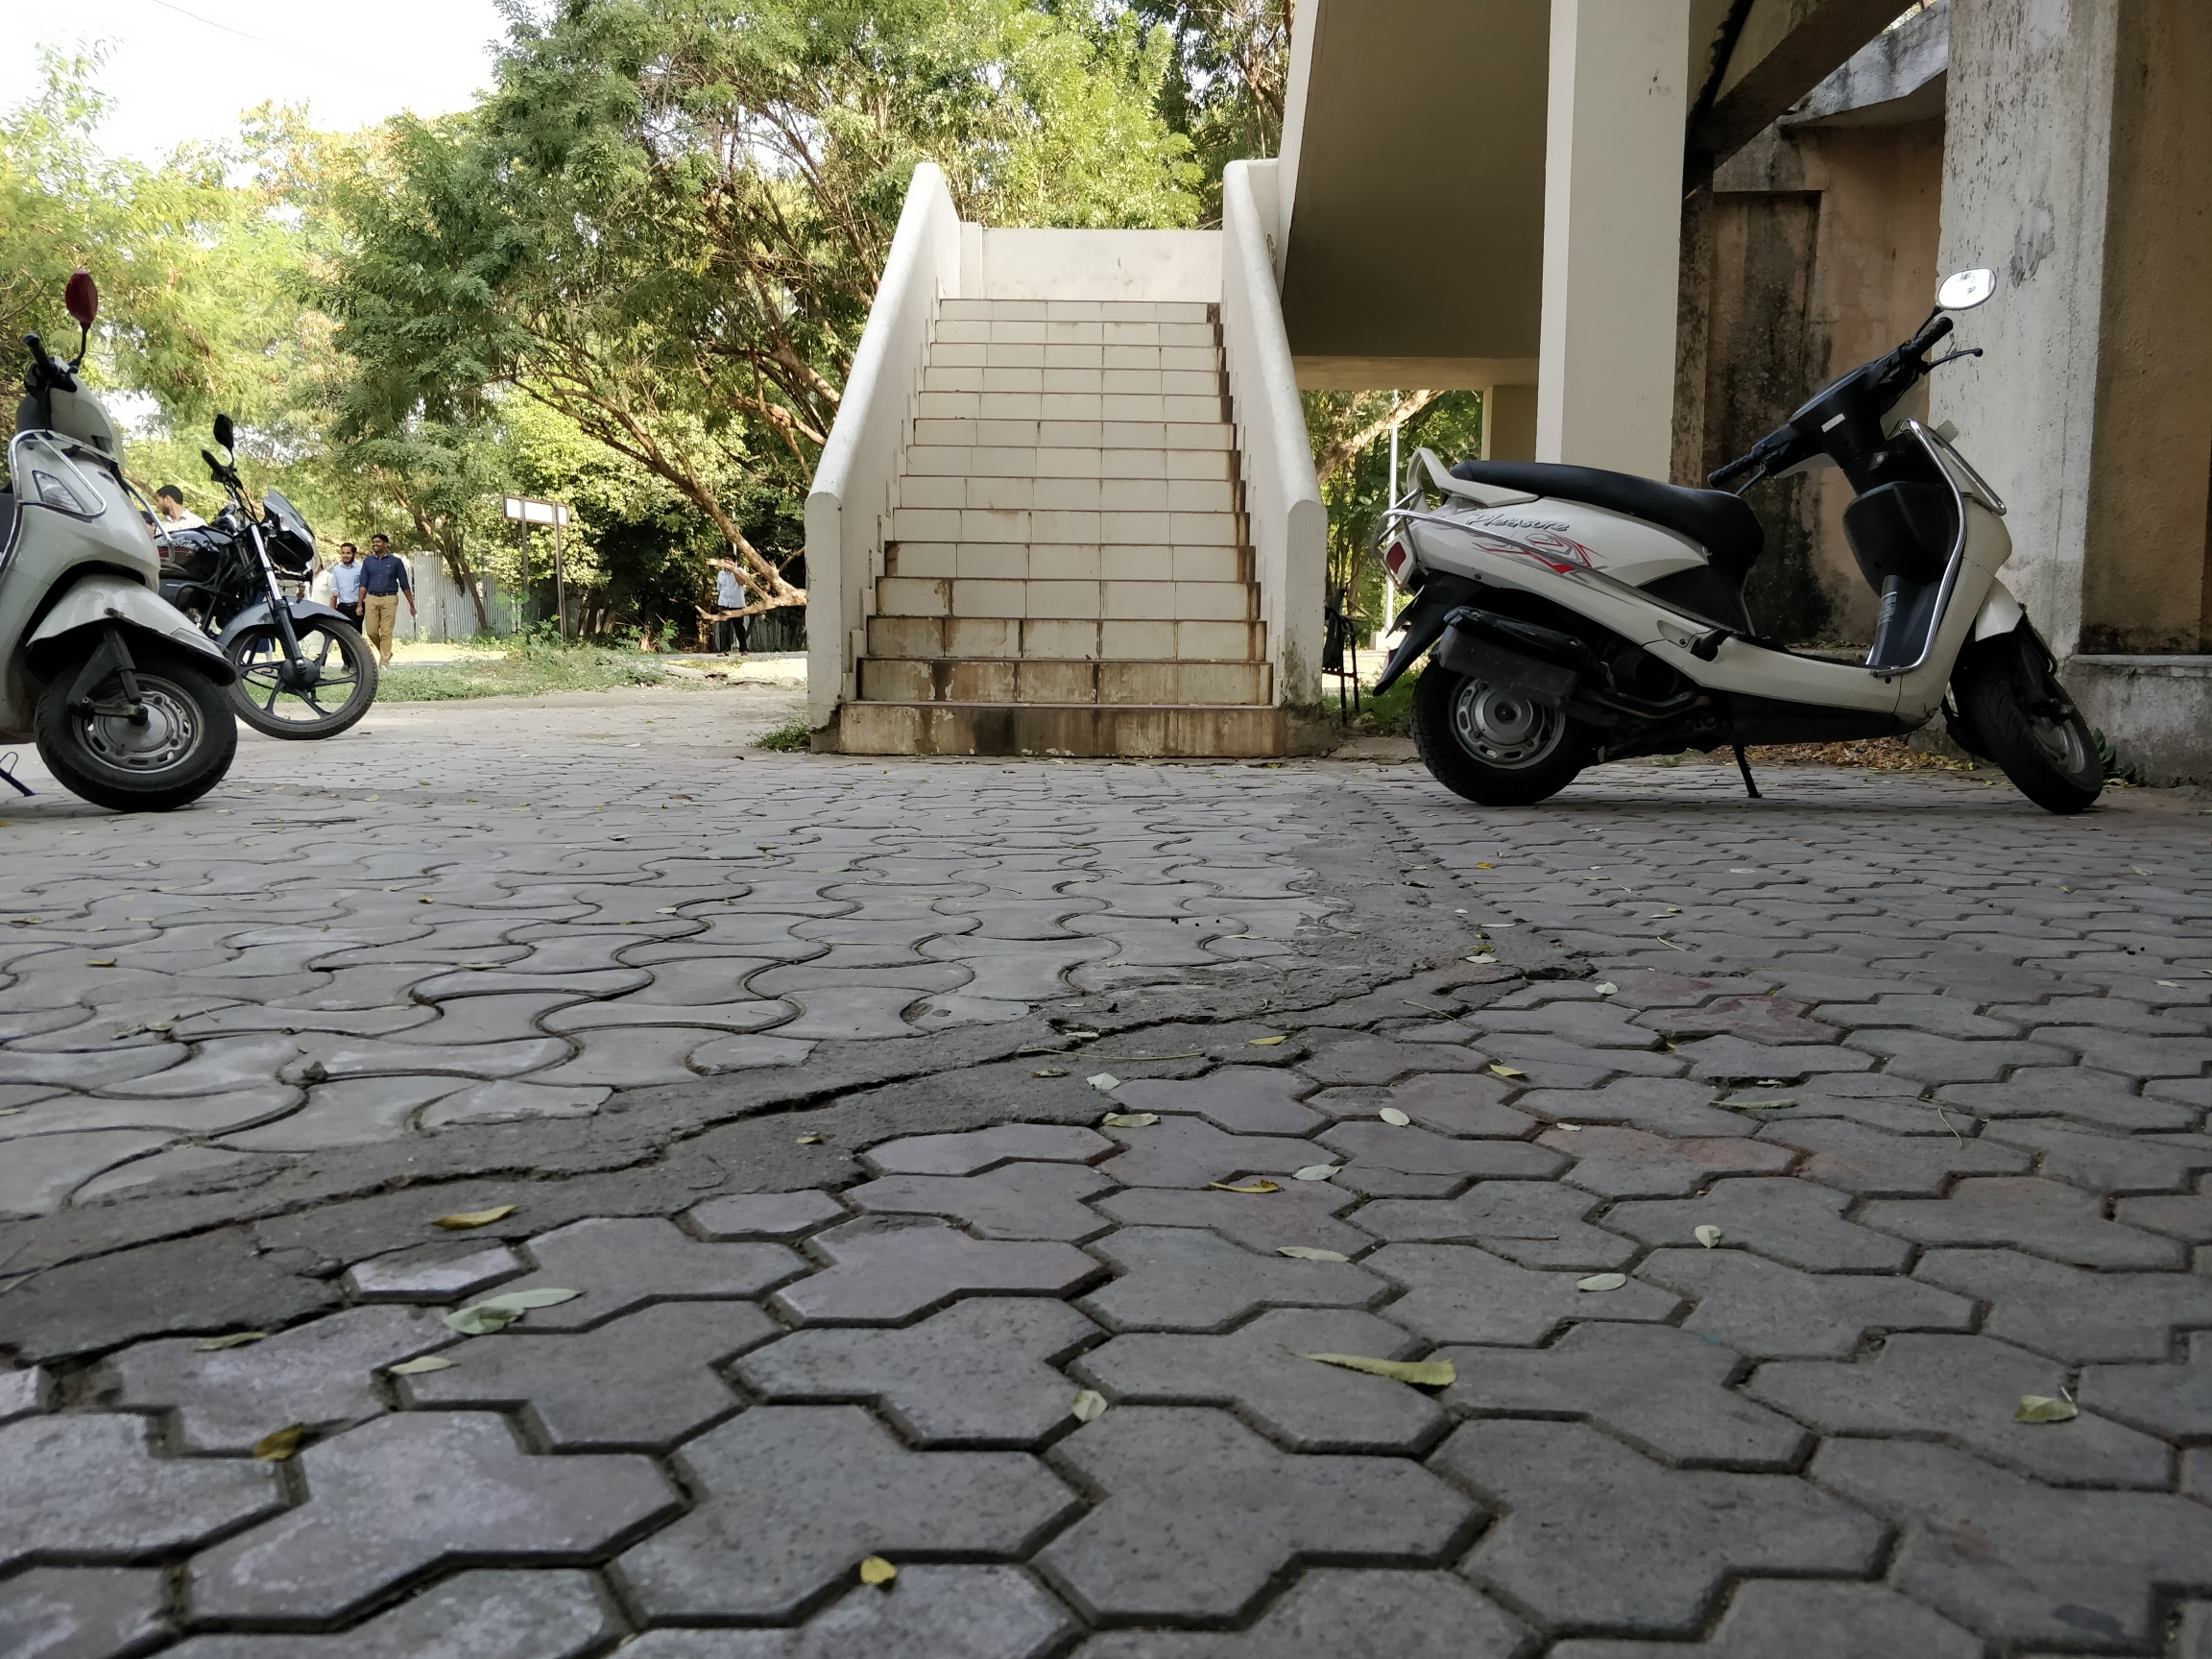stairs_up: (892, 291, 1266, 763)
